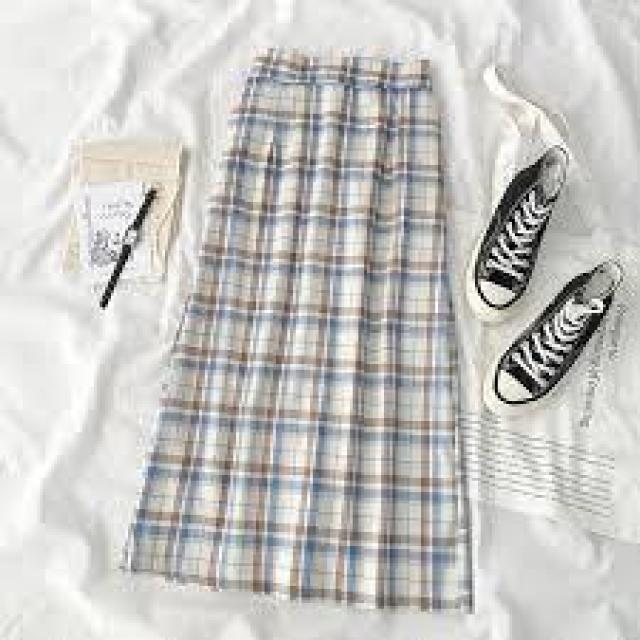skirt: (151, 47, 472, 610)
